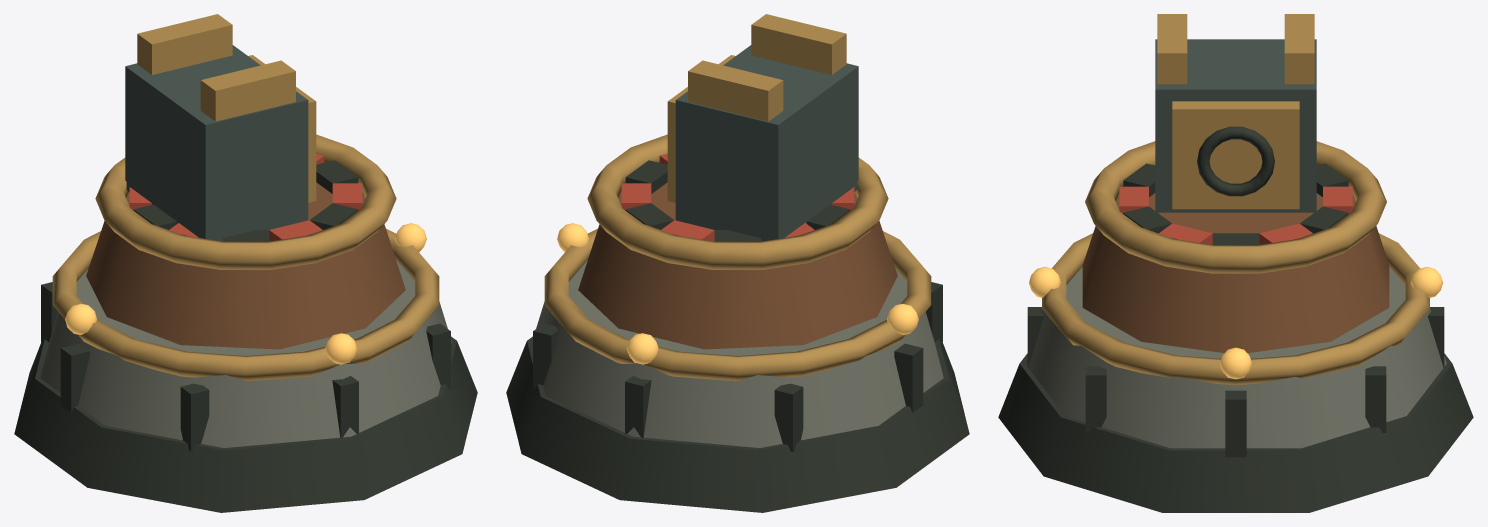
File: tower_gamble_gambleBank.glb
The picture shows the model from 3 angles, left to right: view 1: azimuth 30°, elevation 25°; view 2: azimuth 150°, elevation 25°; view 3: azimuth 270°, elevation 25°; orthographic projection.
Visible parts, largest first — view 1: foot_0, stone_1, table_15, vault_29, rim_2, roulette_rim_16, vault_crown_32, vault_crown_33, mortar_6, mortar_7, mortar_5, mortar_4 (+10 smaller); view 2: foot_0, stone_1, table_15, vault_29, rim_2, roulette_rim_16, vault_crown_32, vault_crown_33, mortar_8, mortar_7, mortar_9, mortar_10 (+10 smaller); view 3: foot_0, stone_1, table_15, roulette_rim_16, rim_2, vault_29, vault_door_30, safe_lock_31, vault_crown_32, vault_crown_33, mortar_3, mortar_4 (+15 smaller).
Part boxes in pixels (left/top/right/bottom): foot_0: left=14, top=336, right=477, bottom=512; stone_1: left=40, top=260, right=451, bottom=447; table_15: left=86, top=182, right=405, bottom=349; vault_29: left=125, top=45, right=308, bottom=241; rim_2: left=52, top=228, right=439, bottom=380; roulette_rim_16: left=95, top=134, right=396, bottom=269; vault_crown_32: left=200, top=60, right=295, bottom=121; vault_crown_33: left=137, top=14, right=232, bottom=74; mortar_6: left=180, top=383, right=209, bottom=451; mortar_7: left=60, top=343, right=89, bottom=412; mortar_5: left=332, top=375, right=358, bottom=437; mortar_4: left=426, top=323, right=450, bottom=388; foot_0: left=506, top=336, right=969, bottom=512; stone_1: left=532, top=260, right=943, bottom=447; table_15: left=578, top=182, right=897, bottom=349; vault_29: left=675, top=45, right=858, bottom=241; rim_2: left=544, top=228, right=931, bottom=380; roulette_rim_16: left=587, top=134, right=888, bottom=269; vault_crown_32: left=751, top=14, right=846, bottom=74; vault_crown_33: left=688, top=60, right=783, bottom=121; mortar_8: left=774, top=383, right=803, bottom=451; mortar_7: left=894, top=343, right=923, bottom=412; mortar_9: left=625, top=375, right=651, bottom=437; mortar_10: left=533, top=323, right=557, bottom=388; foot_0: left=998, top=353, right=1473, bottom=512; stone_1: left=1025, top=267, right=1446, bottom=448; table_15: left=1082, top=193, right=1389, bottom=353; roulette_rim_16: left=1085, top=141, right=1386, bottom=273; rim_2: left=1042, top=233, right=1429, bottom=385; vault_29: left=1155, top=39, right=1316, bottom=212; vault_door_30: left=1172, top=101, right=1299, bottom=209; safe_lock_31: left=1197, top=126, right=1274, bottom=196; vault_crown_32: left=1157, top=14, right=1187, bottom=84; vault_crown_33: left=1284, top=14, right=1314, bottom=84; mortar_3: left=1225, top=390, right=1246, bottom=457; mortar_4: left=1085, top=366, right=1106, bottom=432.
Size of the model in its own units: 0.5326 by 0.48 by 0.56.
